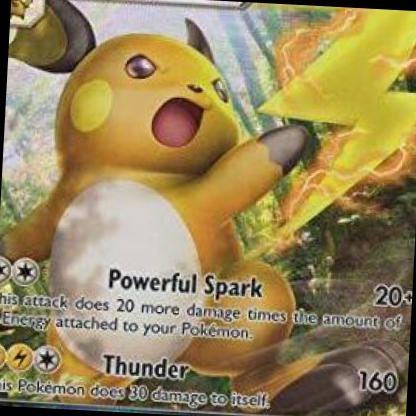Raichu: (1, 38, 416, 416)
